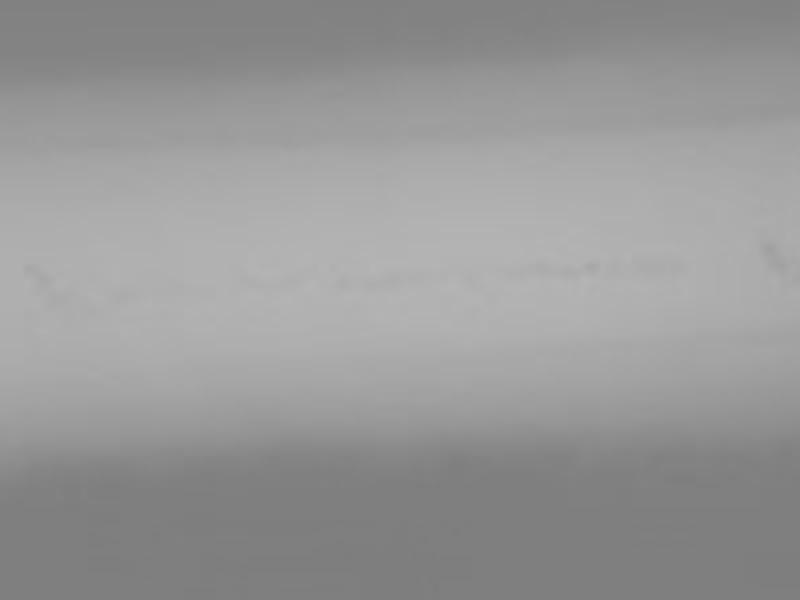defect: (320, 265, 416, 293), (23, 263, 64, 303), (760, 238, 795, 282), (520, 259, 575, 286), (582, 257, 600, 277)
